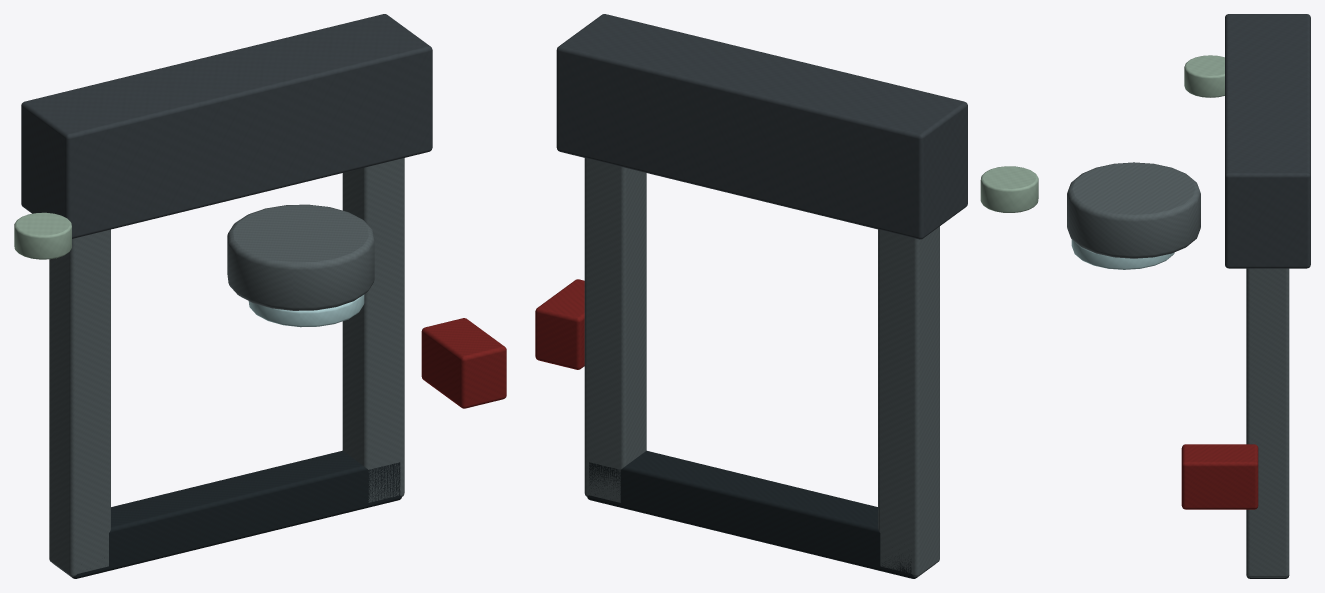
The model's file is DeconShower.fbx.
The picture shows the model from 3 angles, left to right: view 1: azimuth 30°, elevation 25°; view 2: azimuth 150°, elevation 25°; view 3: azimuth 270°, elevation 25°; orthographic projection. The views are drawn at different scales.
Visible parts, largest first — view 1: DeconShower_Mesh; view 2: DeconShower_Mesh; view 3: DeconShower_Mesh.
Part boxes in pixels (x1,y1,x2,y2): DeconShower_Mesh: [14, 14, 506, 578]; DeconShower_Mesh: [535, 14, 1038, 578]; DeconShower_Mesh: [1067, 14, 1310, 578].
Size of the model in its own units: 103 by 95.5 by 51.
6 materials, 6 textured.
